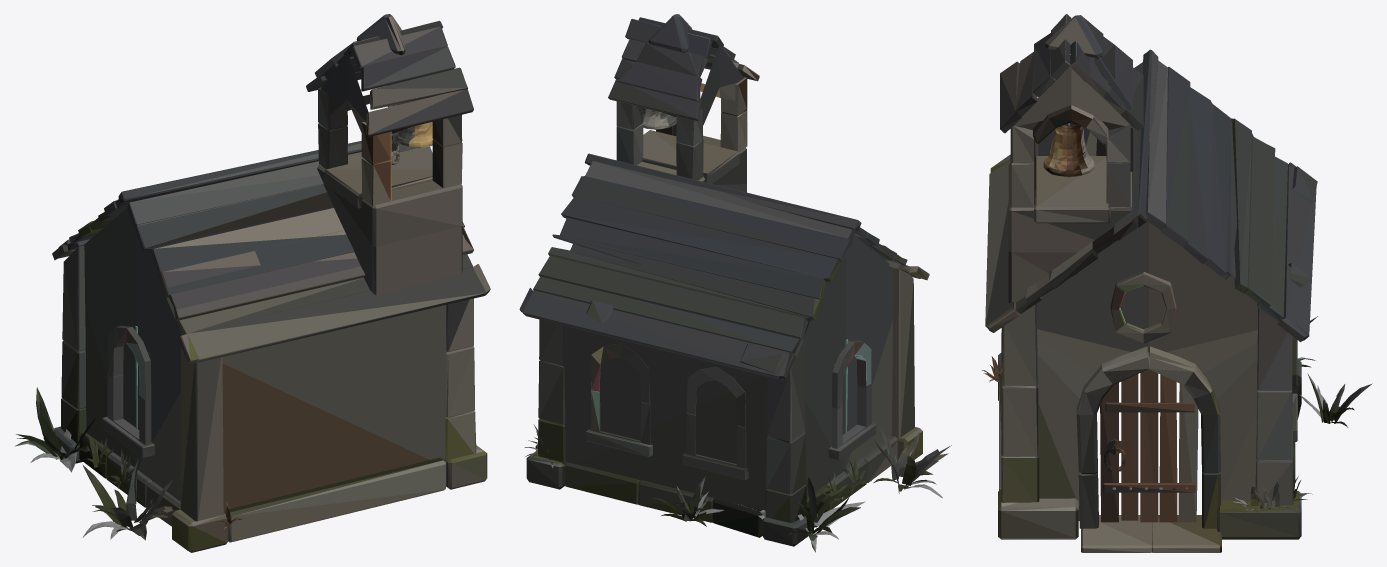
File: Chapel.glb
The picture shows the model from 3 angles, left to right: view 1: azimuth 30°, elevation 25°; view 2: azimuth 150°, elevation 25°; view 3: azimuth 270°, elevation 25°; orthographic projection. The views are drawn at different scales.
Parts seen in each view (by area): view 1: world; view 2: world; view 3: world.
Boxes of the visible parts, x1=… form: world: x1=15, y1=14, x2=490, y2=552; world: x1=519, y1=14, x2=951, y2=552; world: x1=982, y1=14, x2=1372, y2=552.
Bounding box in the file's own units: 0.8926 × 0.998 × 0.7207.
